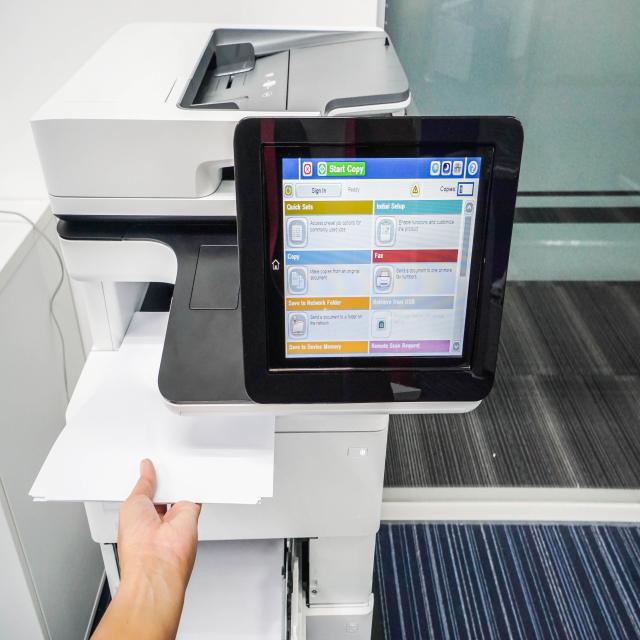printer: (27, 13, 522, 639)
